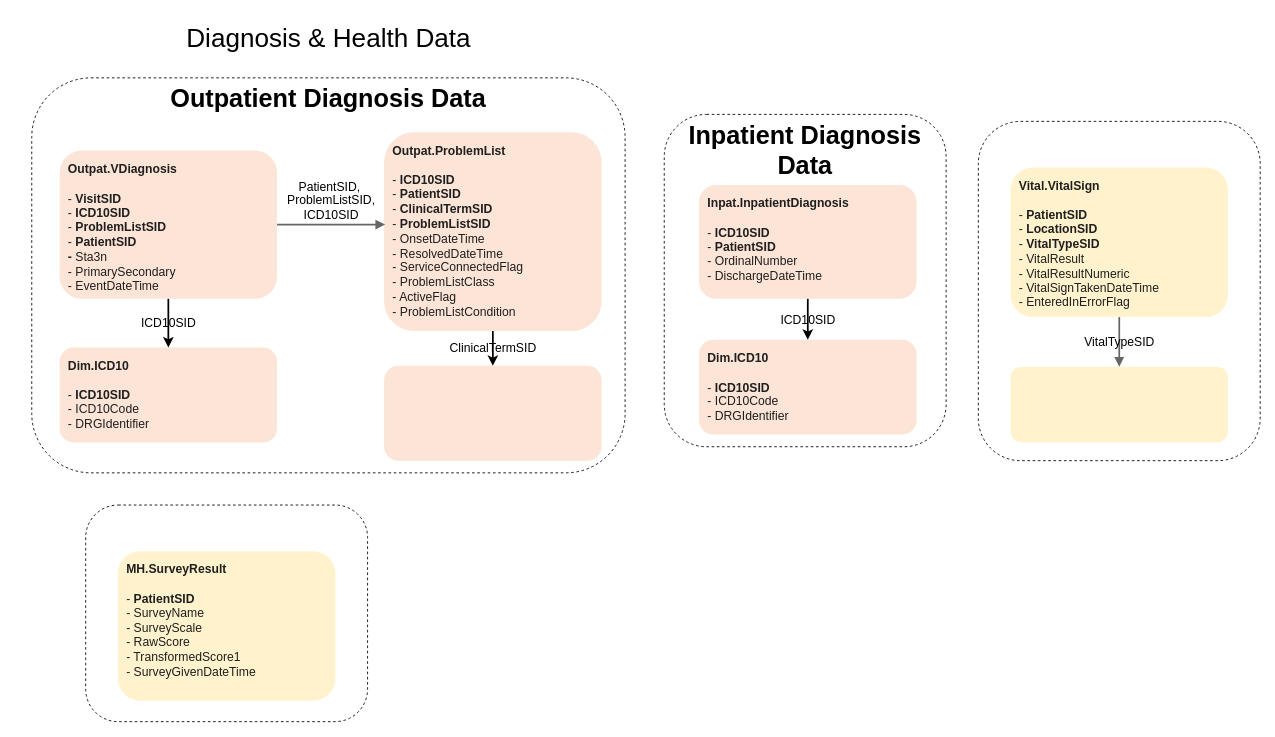
Some shapes in this 1275 by 737 pixel diagram are drawn without their labels. The shapes that lost their labels are listed below. From the top down, each one's box as (x1, y1, x2, y2) in pixels, then its label:
(977, 120, 1260, 461): Pain Score Data
(384, 365, 601, 460): Dim.ClinicalTerm - ClinicalTermSID - ClinicalTerm - ClinicalTermScope
(1010, 366, 1228, 442): Dim.VitalType - VitalTypeSID - VitalType
(85, 504, 368, 722): Mental Health Data
